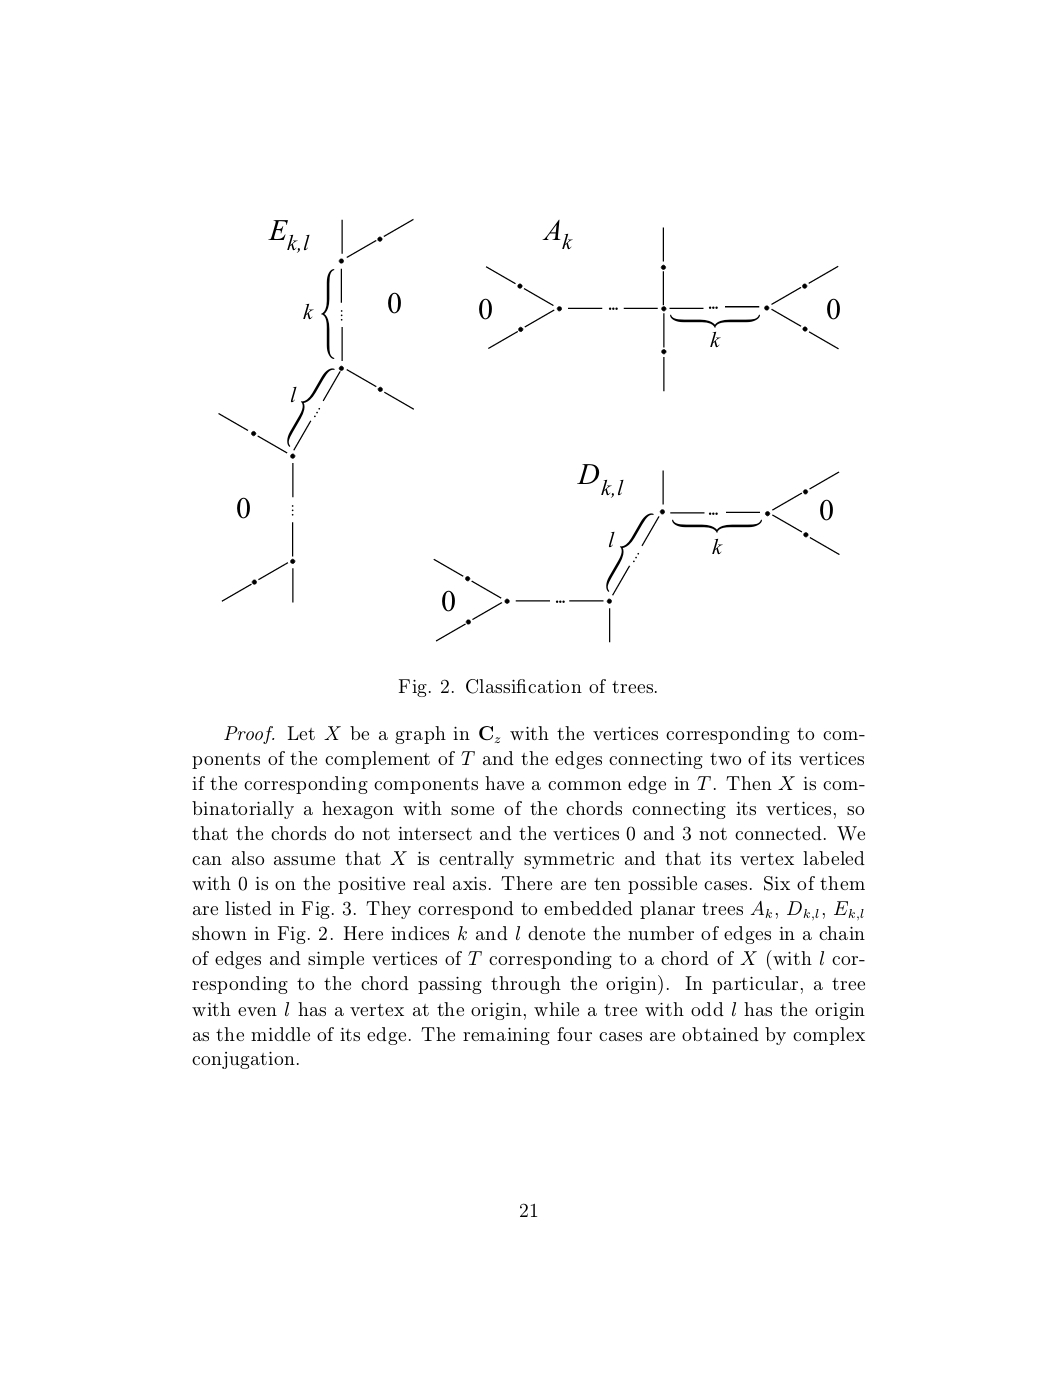figure: (218, 218, 839, 642)
